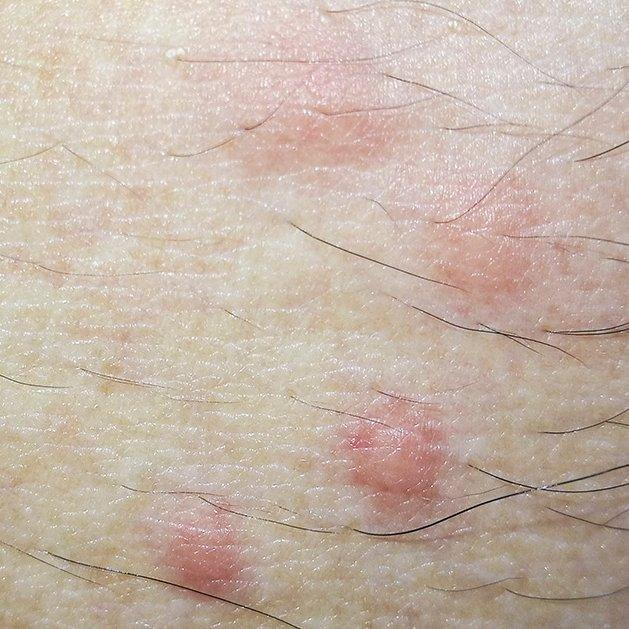Fleas: (155, 19, 397, 160), (413, 178, 575, 351), (338, 389, 459, 537), (158, 502, 268, 607)
